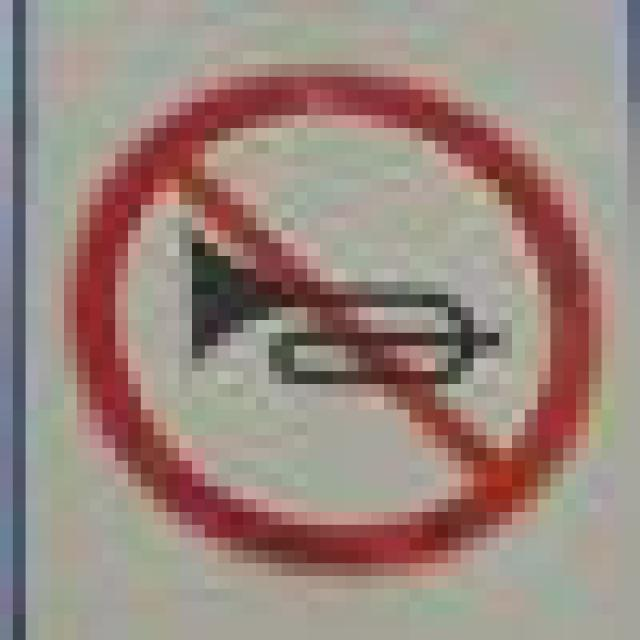horn prohibited: (60, 61, 611, 579)
